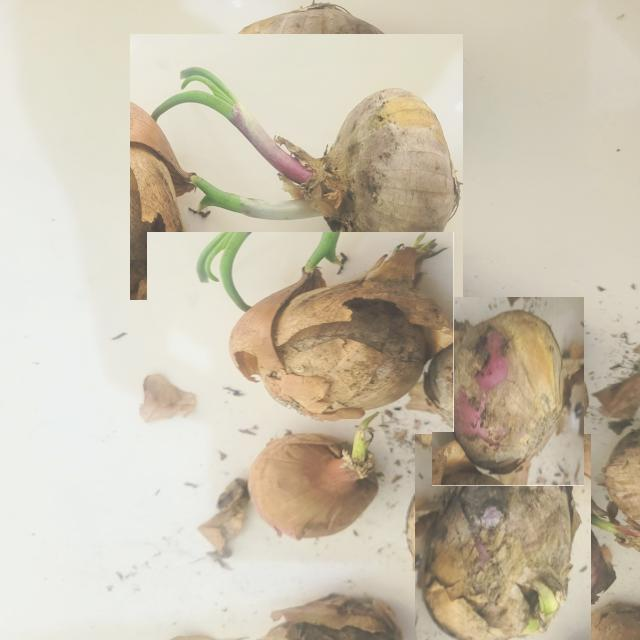rotten: (424, 486, 579, 639)
sprouting: (152, 68, 458, 231), (249, 413, 377, 538)
